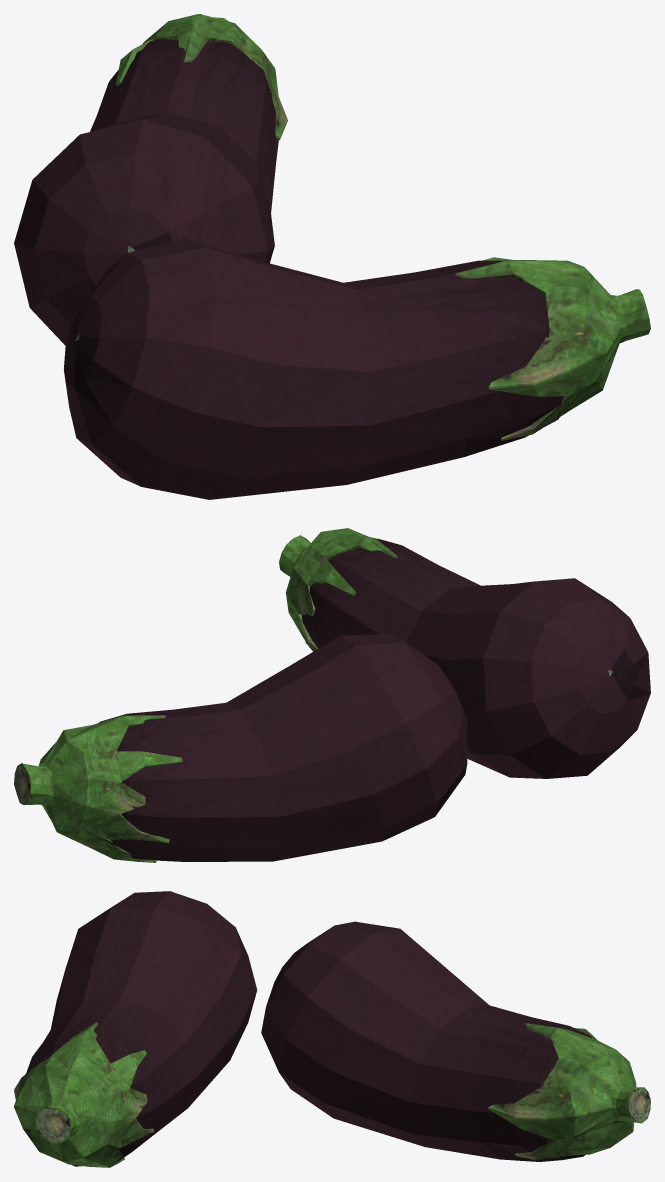
Rendered from berenjena.obj.
The picture shows the model from 3 angles, top to bottom: view 1: azimuth 30°, elevation 25°; view 2: azimuth 150°, elevation 25°; view 3: azimuth 270°, elevation 25°; orthographic projection. The views are drawn at different scales.
Visible parts, largest first — view 1: Eggplant_0.001, Eggplant_0; view 2: Eggplant_0, Eggplant_0.001; view 3: Eggplant_0, Eggplant_0.001.
Part boxes in pixels (box(x1,y1,x2,y2)): Eggplant_0.001: box(63, 238, 650, 499); Eggplant_0: box(14, 14, 287, 345); Eggplant_0: box(14, 634, 467, 862); Eggplant_0.001: box(279, 528, 650, 778); Eggplant_0: box(261, 921, 650, 1161); Eggplant_0.001: box(14, 891, 257, 1167).
Size of the model in its own units: 1.18 by 0.5582 by 1.71.
Materials: 2 (2 with a texture image).
